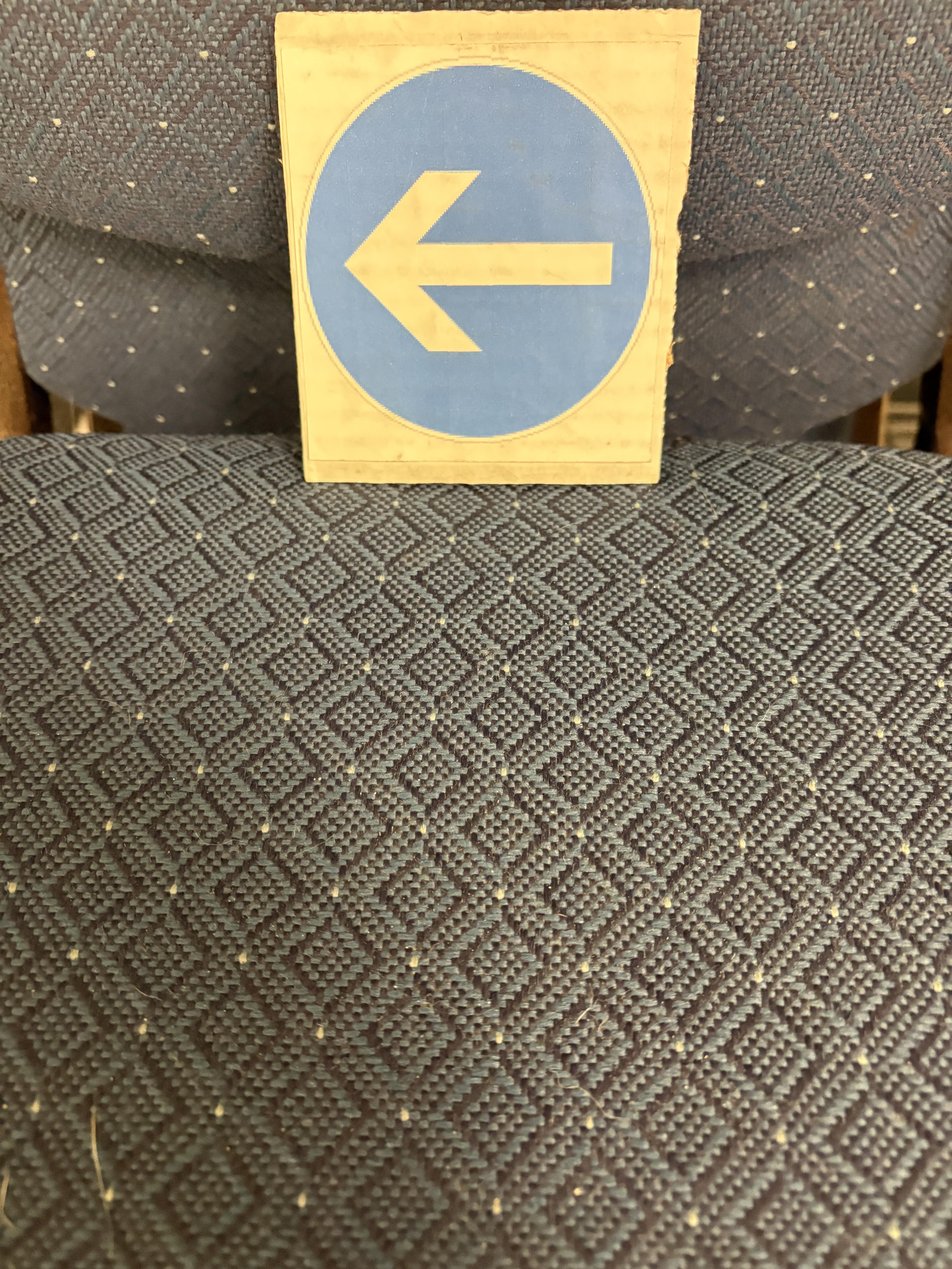Proceed Left: (205, 24, 511, 653)
